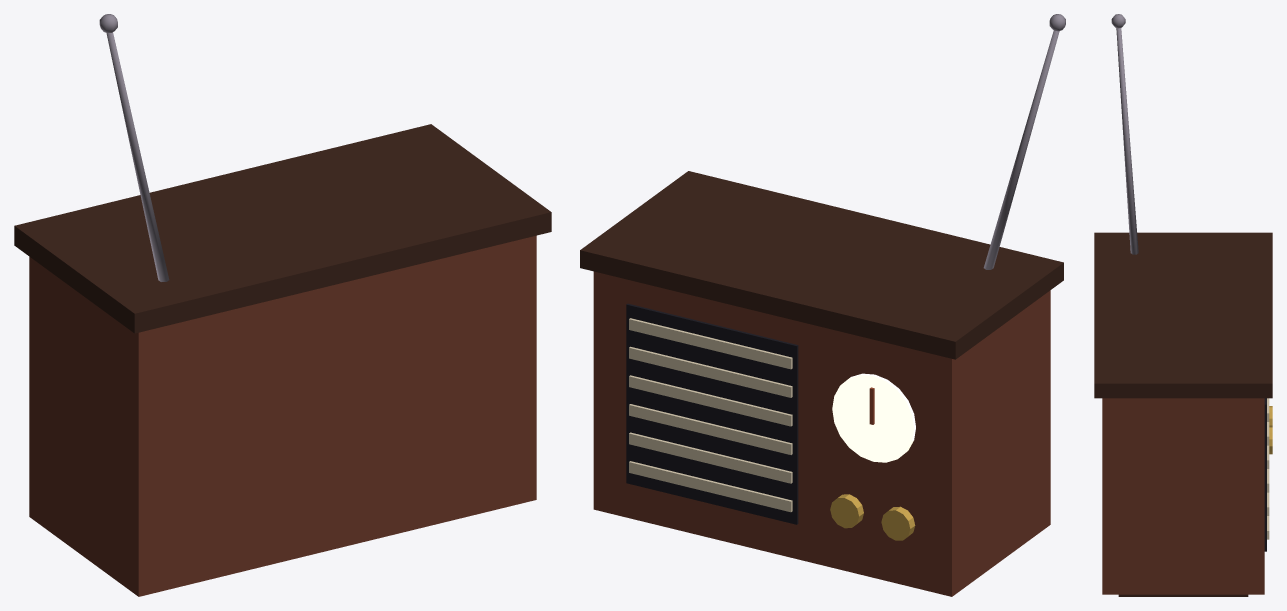
File: SM_PRP_Radio.fbx
3 renders of one model, left to right at view 1: azimuth 30°, elevation 25°; view 2: azimuth 150°, elevation 25°; view 3: azimuth 270°, elevation 25°, orthographic. The views are drawn at different scales.
Visible parts, largest first — view 1: SM_PRP_Radio; view 2: SM_PRP_Radio; view 3: SM_PRP_Radio.
Boxes of the visible parts, x1,y1,x2,y2 form: SM_PRP_Radio: (14, 14, 551, 596); SM_PRP_Radio: (580, 14, 1065, 596); SM_PRP_Radio: (1094, 14, 1272, 596).
Size of the model in its own units: 0.4586 by 0.594 by 0.22.
